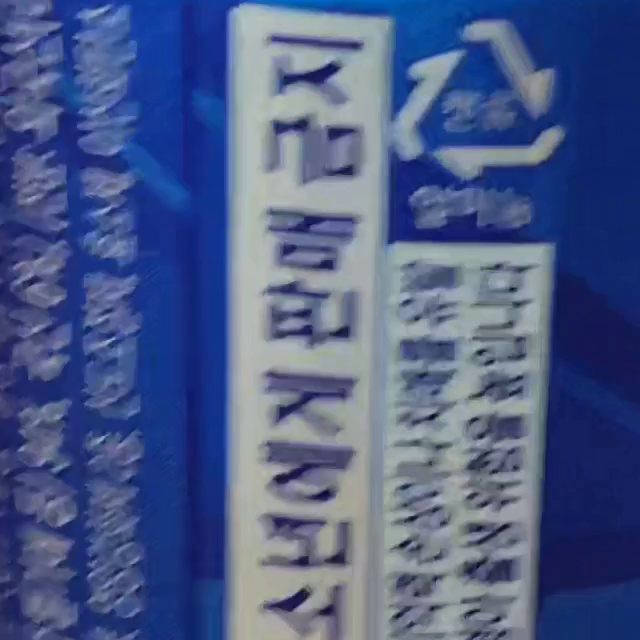Can: (389, 18, 565, 177)
